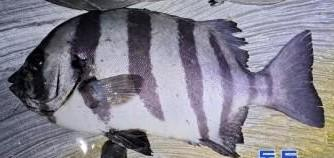fish: (7, 9, 323, 156)
